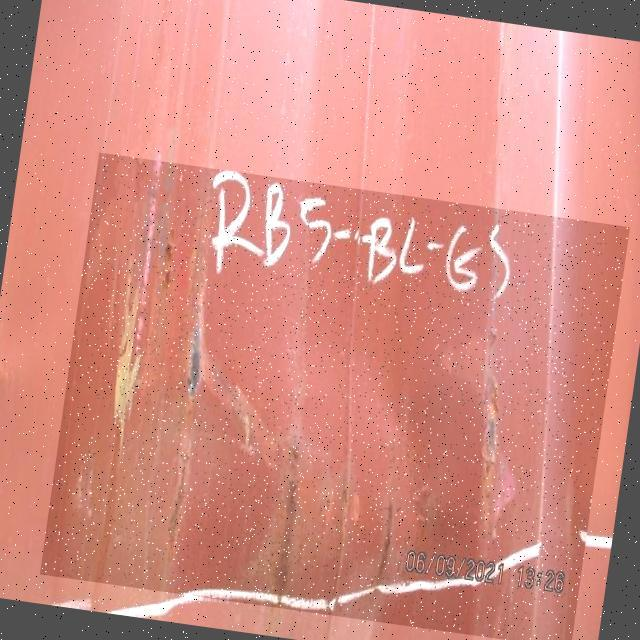Dent: (39, 153, 629, 640)
